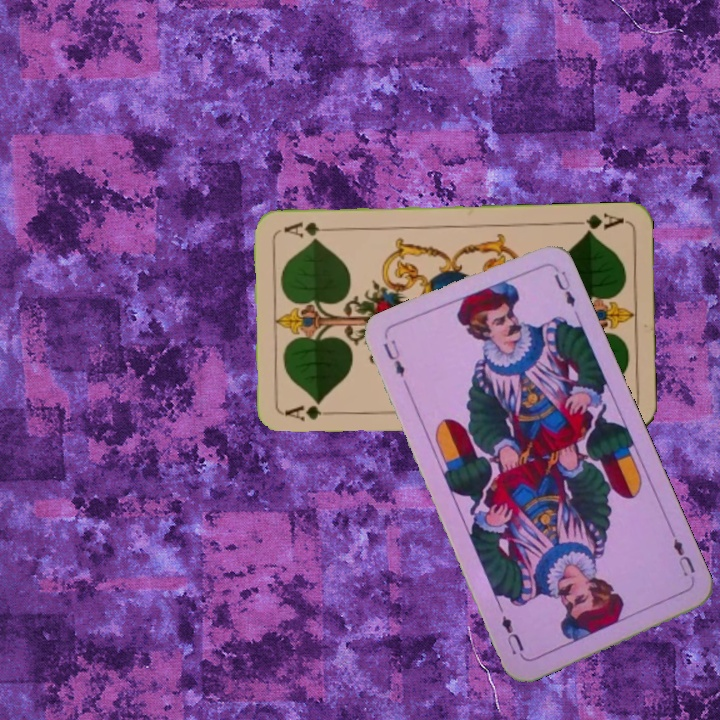EU: (666, 528, 698, 580), (379, 336, 408, 380)
GA: (567, 209, 627, 237), (281, 401, 340, 424)
